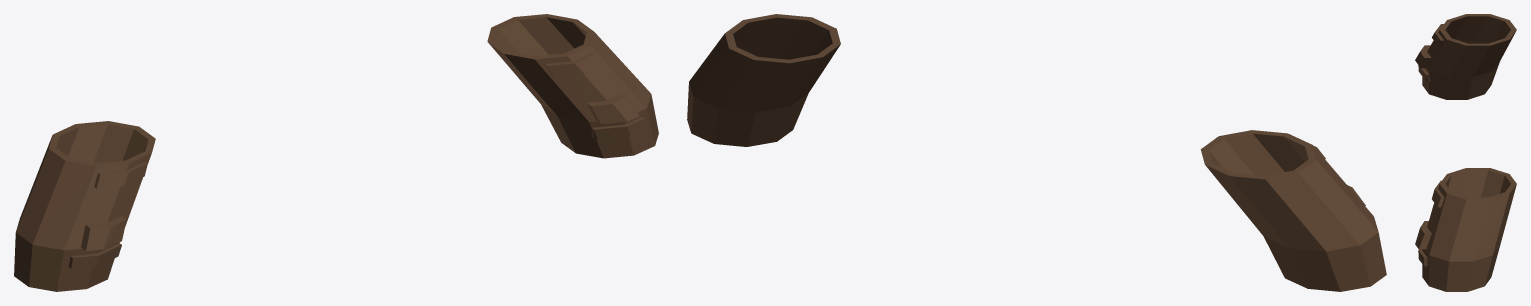
File: leather_wrists-female-thickHide.glb
3 renders of one model, left to right at view 1: azimuth 30°, elevation 25°; view 2: azimuth 150°, elevation 25°; view 3: azimuth 270°, elevation 25°, orthographic. The views are drawn at different scales.
Visible parts, largest first — view 1: leather wrist guard -1, leather wrist guard 1, Heavy hide binding leather wrist guard -1, Heavy hide binding leather wrist guard 1, Bracer rolled upper lip -1, Bracer rolled upper lip 1, Bracer lower fastening strap 1, Bracer lower fastening strap -1; view 2: leather wrist guard -1, leather wrist guard 1; view 3: leather wrist guard 1, leather wrist guard -1, Heavy hide binding leather wrist guard 1, Heavy hide binding leather wrist guard -1, Bracer rolled upper lip 1, Bracer rolled upper lip -1, Bracer lower fastening strap 1, Bracer lower fastening strap -1.
Part boxes in pixels (x1=…): leather wrist guard -1: x1=14, y1=121, x2=155, y2=291; leather wrist guard 1: x1=487, y1=14, x2=658, y2=158; Heavy hide binding leather wrist guard -1: x1=81, y1=216, x2=126, y2=251; Heavy hide binding leather wrist guard 1: x1=586, y1=94, x2=639, y2=124; Bracer rolled upper lip -1: x1=94, y1=161, x2=147, y2=188; Bracer rolled upper lip 1: x1=545, y1=52, x2=602, y2=76; Bracer lower fastening strap 1: x1=591, y1=116, x2=647, y2=139; Bracer lower fastening strap -1: x1=68, y1=243, x2=121, y2=269; leather wrist guard -1: x1=1200, y1=130, x2=1386, y2=291; leather wrist guard 1: x1=687, y1=14, x2=840, y2=146; leather wrist guard 1: x1=1422, y1=168, x2=1516, y2=291; leather wrist guard -1: x1=1422, y1=14, x2=1516, y2=99; Heavy hide binding leather wrist guard 1: x1=1415, y1=221, x2=1431, y2=249; Heavy hide binding leather wrist guard -1: x1=1415, y1=45, x2=1431, y2=68; Bracer rolled upper lip 1: x1=1432, y1=180, x2=1444, y2=207; Bracer rolled upper lip -1: x1=1432, y1=24, x2=1443, y2=46; Bracer lower fastening strap 1: x1=1418, y1=249, x2=1427, y2=266; Bracer lower fastening strap -1: x1=1418, y1=65, x2=1431, y2=81.
Size of the model in its own units: 3.87 by 0.6079 by 0.7532.
